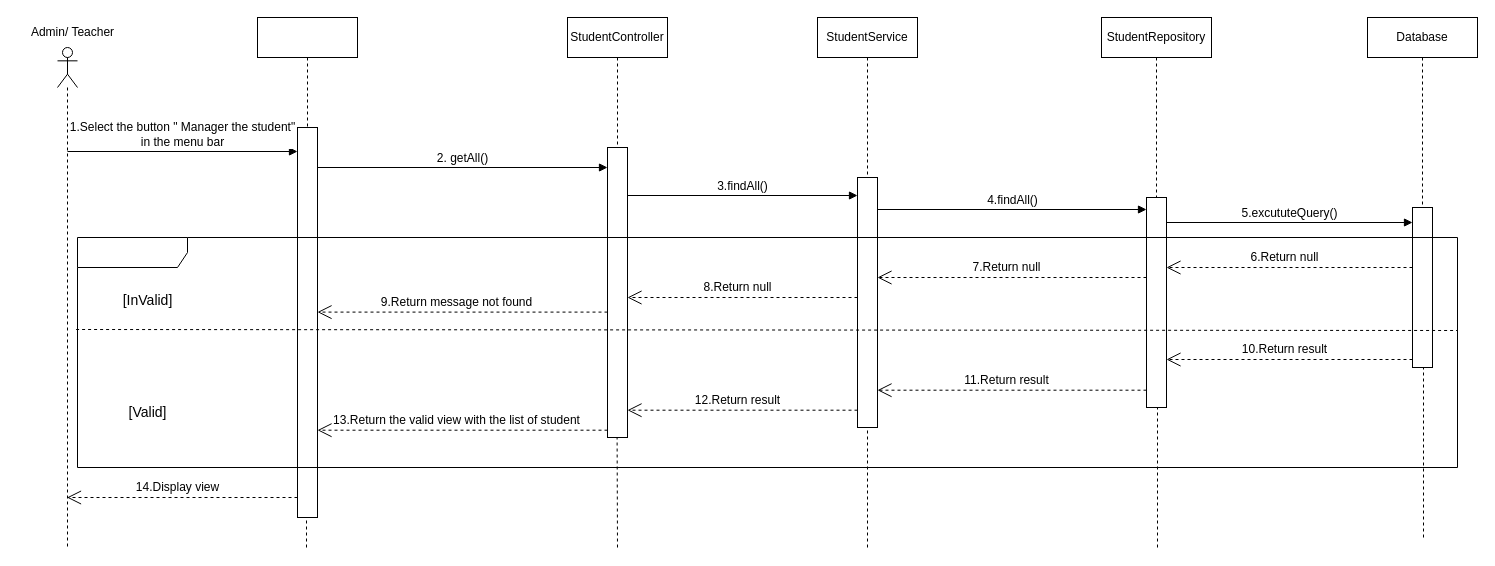
The diagram is 1495 pixels wide and 566 high, and some of its shapes have lost their labels. The box of each missing label's shape, as (x1, y1, x2, y2) in pixels:
alt view the list of student: (76, 236, 1458, 468)
View: (256, 16, 358, 128)
